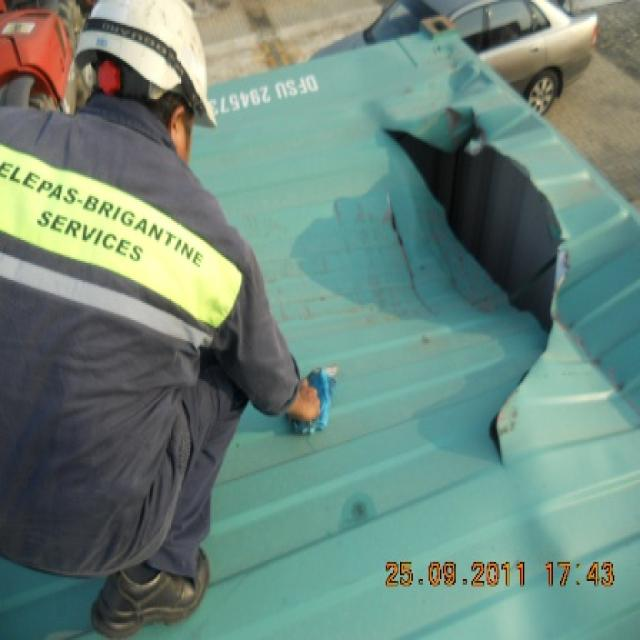hole: (379, 102, 577, 471)
